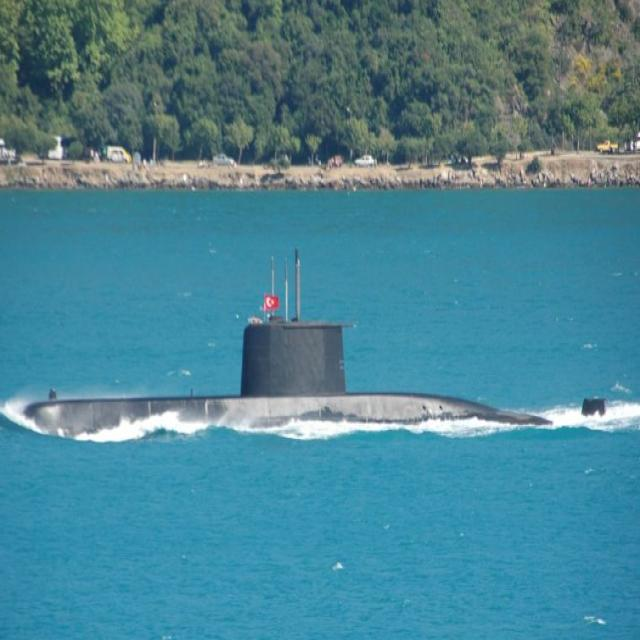submarine: (16, 321, 610, 430)
